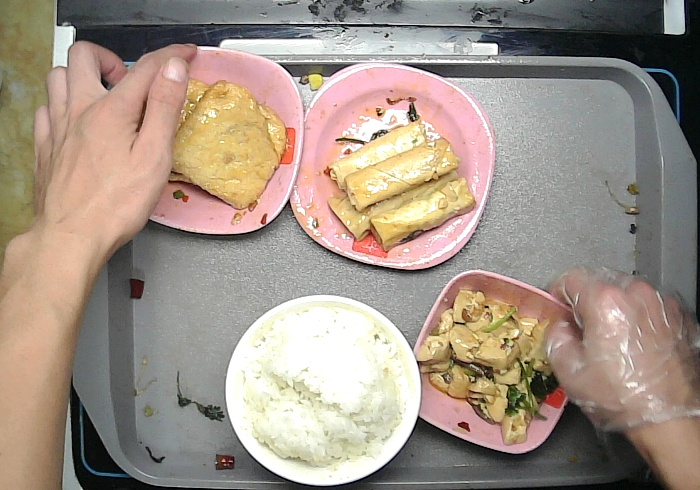SHKJ-Fan_Wan: (221, 291, 425, 490)
SHKJ-Fen_Se_Cai_Die: (117, 38, 308, 238)
SHKJ-Fen_Se_Si_Fang_Cai_Die: (288, 54, 501, 274)
SHKJ-Fen_Se_Xiao_Fang_Die: (410, 267, 590, 460)
